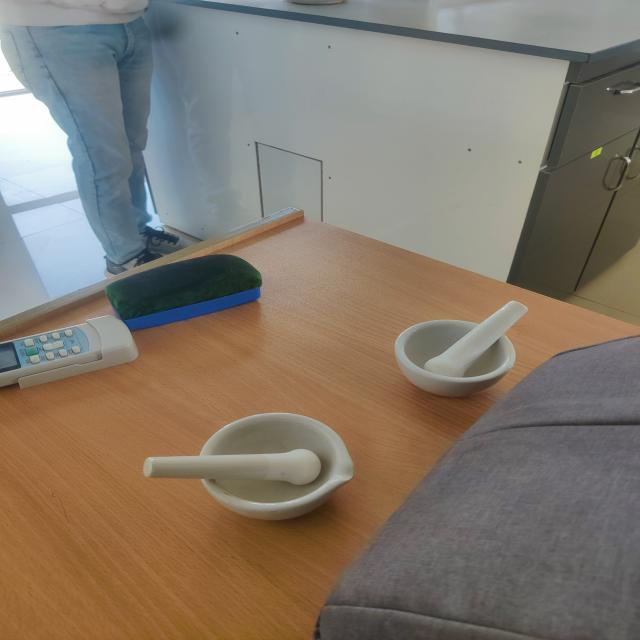Porcelain_Mortar Pestle: (101, 400, 389, 541), (384, 288, 552, 413)
